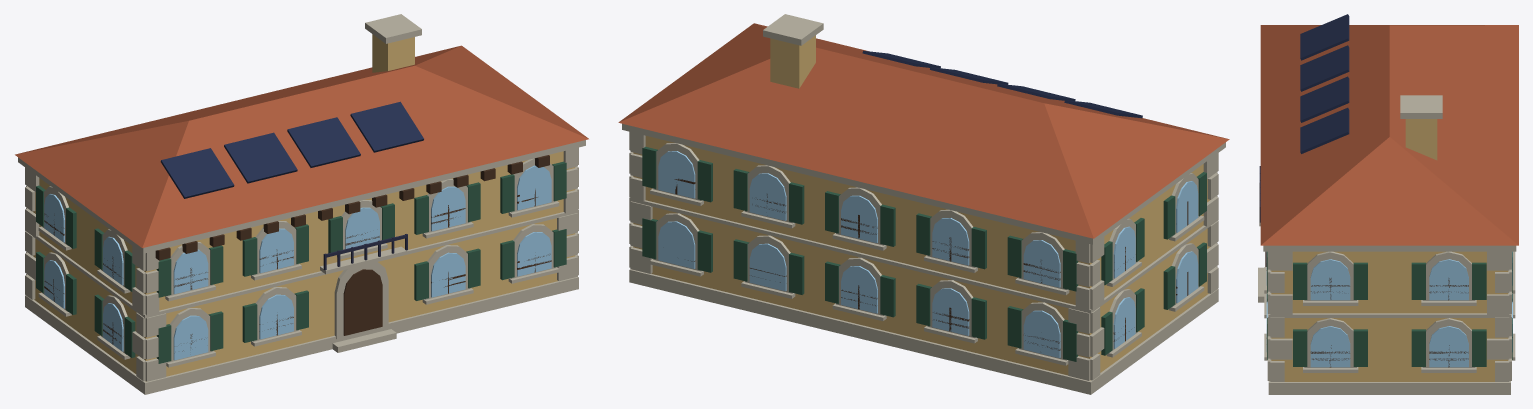
File: house-2x1-2f-tuscan-a-solar.glb
3 renders of one model, left to right at view 1: azimuth 30°, elevation 25°; view 2: azimuth 150°, elevation 25°; view 3: azimuth 270°, elevation 25°, orthographic. The views are drawn at different scales.
Visible parts, largest first — view 1: house-2x1-2f-tuscan-a-solar; view 2: house-2x1-2f-tuscan-a-solar; view 3: house-2x1-2f-tuscan-a-solar.
Part boxes in pixels (box(x1,y1,x2,y2)): house-2x1-2f-tuscan-a-solar: box(15, 14, 588, 394); house-2x1-2f-tuscan-a-solar: box(618, 14, 1229, 394); house-2x1-2f-tuscan-a-solar: box(1258, 14, 1518, 394).
Bounding box in the file's own units: 1.98 × 0.992 × 0.99.
Materials: 1 (1 with a texture image).
